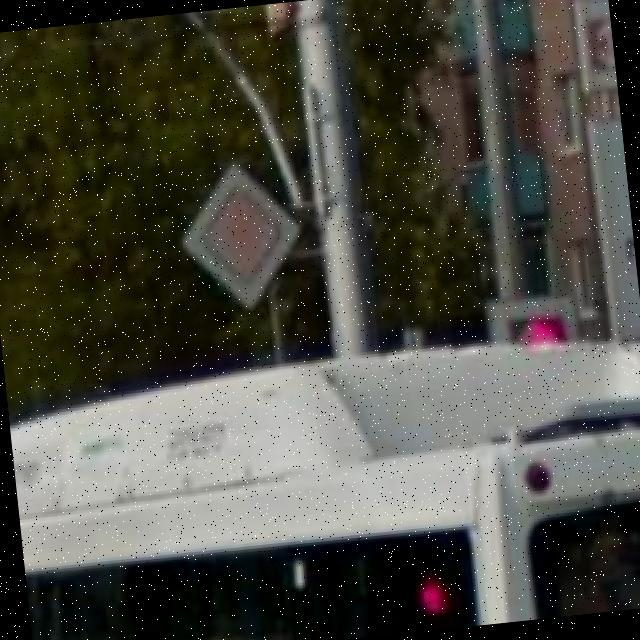Droga z pierwszenstwem: (172, 155, 307, 320)
